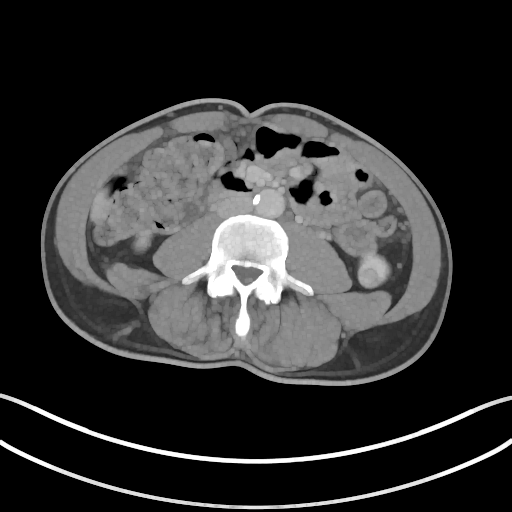Lesion: (361, 264, 381, 288)
